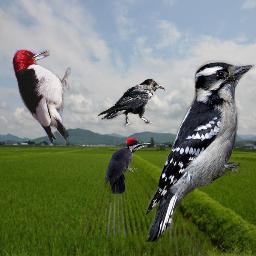Crow: (97, 78, 165, 127)
Woodpecker: (145, 59, 255, 244), (12, 49, 71, 144), (103, 137, 151, 194)
